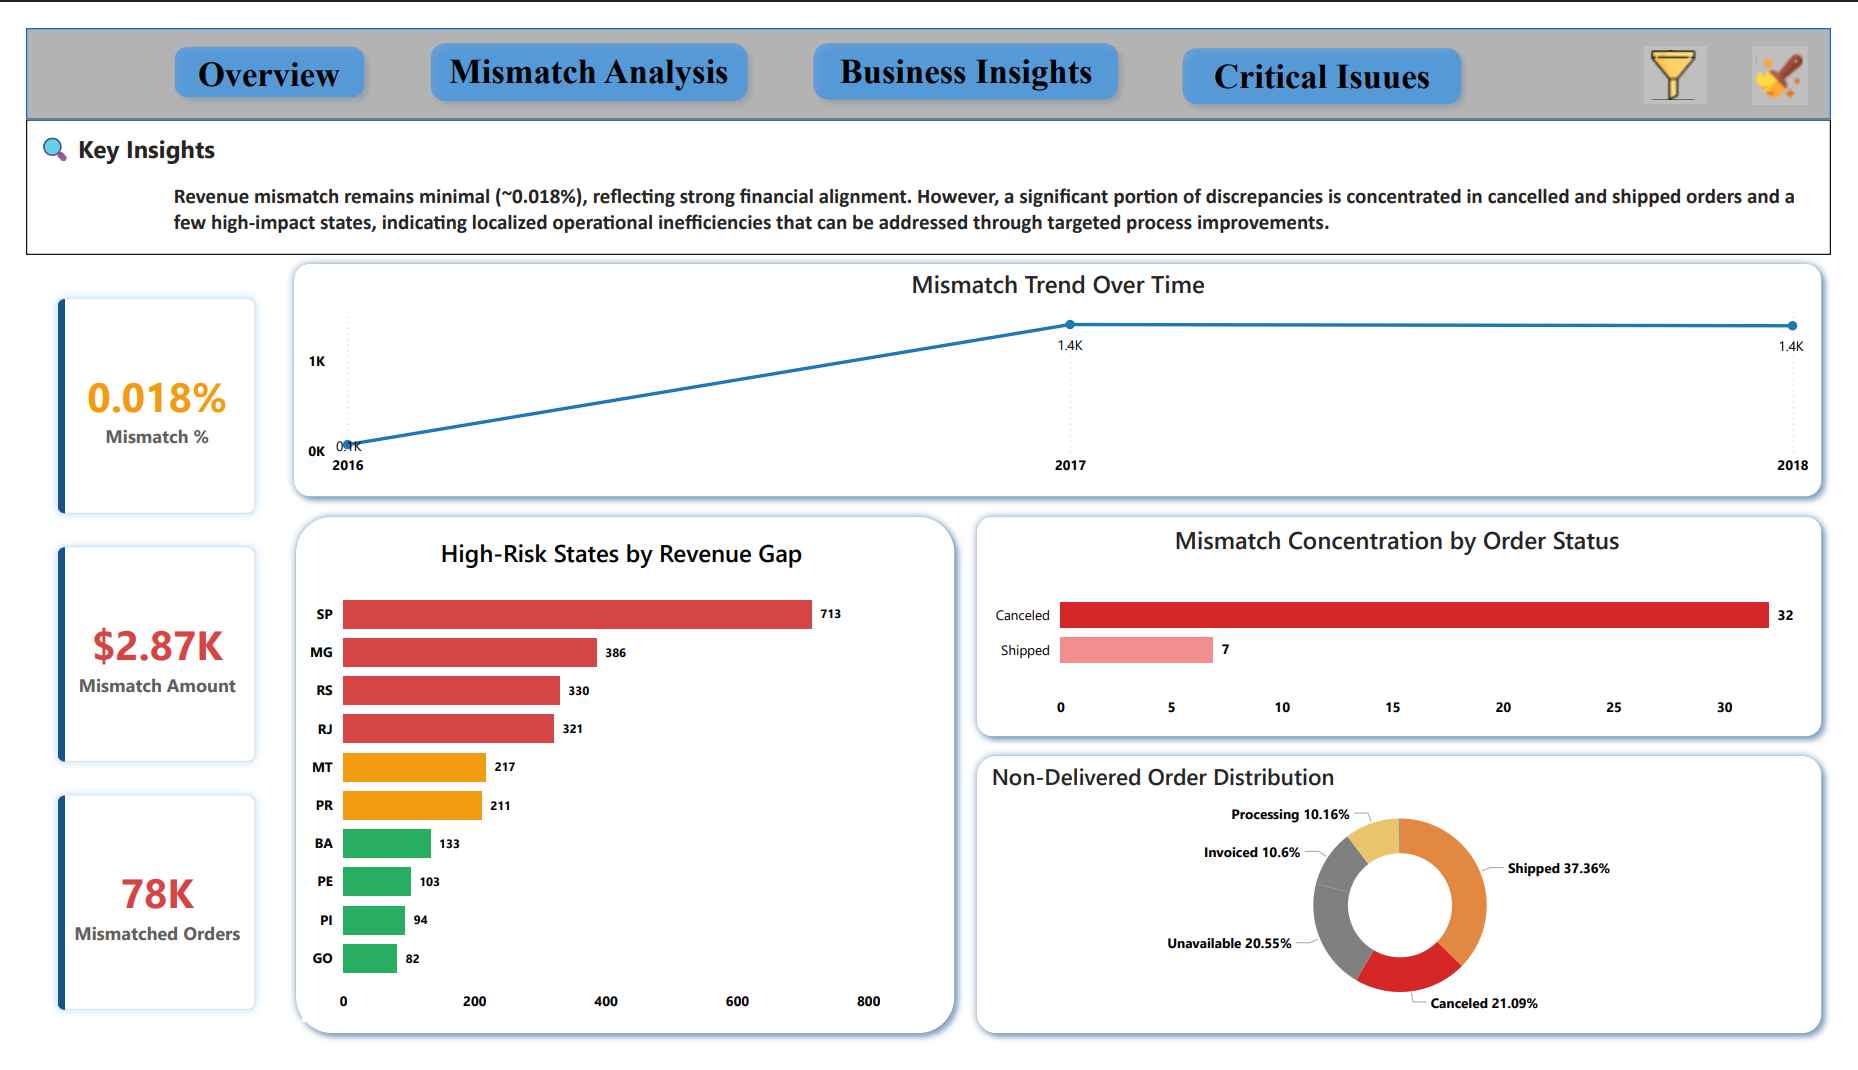

Layout of this report page (visuals, bound fields, positions):
{"tool":"powerbi","page":{"name":"Mismatch Analysis","canvas":[1600,900],"ordinal":2},"visuals":[{"type":"shape","box":[0,0,1600,80.9],"z":0},{"type":"actionButton","box":[122.8,7.8,185,62.2],"z":1000},{"type":"actionButton","box":[349.9,4.7,298.6,68.4],"z":2000},{"type":"actionButton","box":[690.4,4.7,286.1,66.9],"z":3000},{"type":"actionButton","box":[1016.9,9.3,264.3,66.9],"z":4000},{"type":"cardVisual","fields":{"Data":["measure.Mismatch %","measure.Mismatch Amount","measure.Mismatched Orders"]},"box":[0,211.9,230.8,687.3],"z":5000},{"type":"textbox","box":[0,80.9,1600,119.7],"z":6000},{"type":"shape","box":[229.1,199.8,1371.2,223.9],"z":7000},{"type":"shape","box":[833.8,423.8,766.6,211.9],"z":8000},{"type":"shape","box":[230.8,423.8,601.2,475.5],"z":9000},{"type":"shape","box":[833.8,635.7,766.6,263.6],"z":10000},{"type":"lineChart","title":"Mismatch Trend Over Time","fields":{"Category":["orders.order_purchase_timestamp.Variation.Date Hierarchy.Month1","orders.order_purchase_timestamp.Variation.Date Hierarchy.Year"],"Y":["measure.Mismatch Amount"]},"box":[244.6,211.9,1340.2,192.9],"z":11000},{"type":"clusteredBarChart","title":"Mismatch Concentration by Order Status","fields":{"Category":["orders.Order Status Clean"],"Y":["measure.Mismatch Amount"]},"box":[851,439.3,728.7,180.9],"z":12000},{"type":"clusteredBarChart","title":"High-Risk States by Revenue Gap","fields":{"Category":["customers.customer_state"],"Y":["measure.Mismatch Amount"]},"box":[244.6,449.6,566.8,430.7],"z":13000},{"type":"donutChart","title":"Non-Delivered Order Distribution","fields":{"Y":["Count(orders.order_id)"],"Category":["orders.Order Status Clean"]},"box":[851,649.4,733.9,230.8],"z":14000},{"type":"actionButton","title":"Funnel Open","box":[1435.2,15.5,54.4,51.3],"z":17000},{"type":"actionButton","box":[1530.3,15.7,48.8,52.3],"z":18000}]}

Visuals, with their boxes in screenshot pixels (x1, y1, x2, y2), scaled from the page's 1600x900 canvas onto the 1858x1070 screenshot:
shape: Rect(0, 0, 1857, 96)
actionButton: Rect(143, 9, 357, 83)
actionButton: Rect(406, 6, 753, 87)
actionButton: Rect(802, 6, 1134, 85)
actionButton: Rect(1181, 11, 1488, 91)
cardVisual - measure.Mismatch % x measure.Mismatch Amount: Rect(0, 252, 268, 1069)
textbox: Rect(0, 96, 1857, 238)
shape: Rect(266, 238, 1857, 504)
shape: Rect(968, 504, 1857, 756)
shape: Rect(268, 504, 966, 1069)
shape: Rect(968, 756, 1857, 1069)
"Mismatch Trend Over Time" lineChart: Rect(284, 252, 1840, 481)
"Mismatch Concentration by Order Status" clusteredBarChart: Rect(988, 522, 1834, 737)
"High-Risk States by Revenue Gap" clusteredBarChart: Rect(284, 535, 942, 1047)
"Non-Delivered Order Distribution" donutChart: Rect(988, 772, 1840, 1046)
"Funnel Open" actionButton: Rect(1667, 18, 1730, 79)
actionButton: Rect(1777, 19, 1834, 81)
